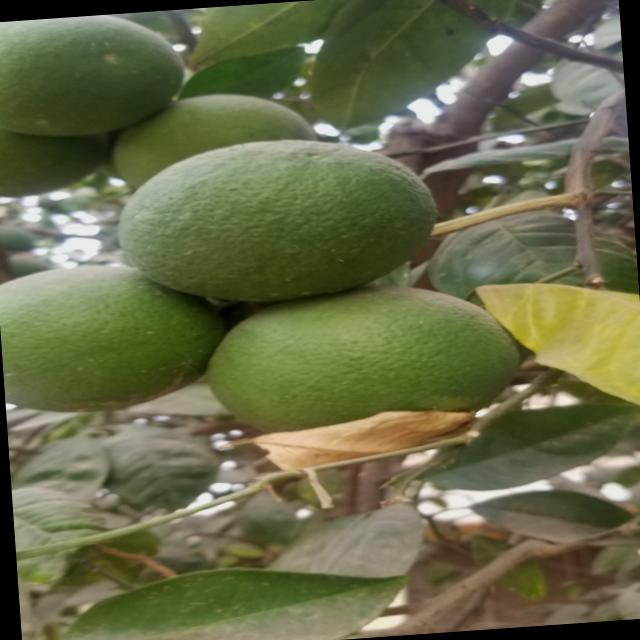Unripe: (91, 119, 462, 328), (202, 284, 516, 467), (0, 253, 179, 425), (0, 8, 202, 147)
